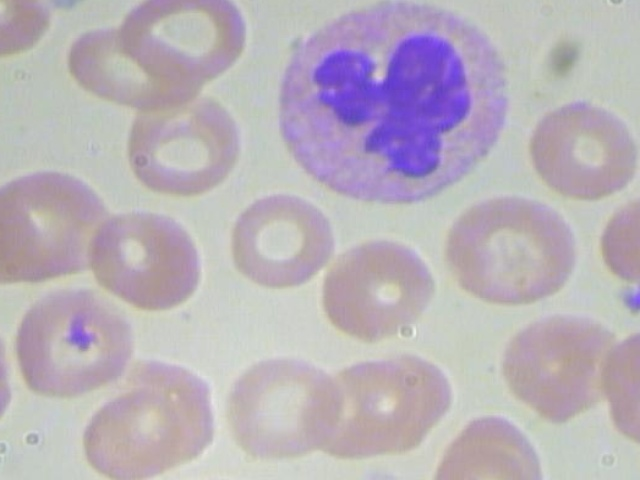Platelets: (609, 276, 640, 318)
RBC: (432, 190, 582, 313), (109, 79, 259, 201), (216, 342, 346, 459), (492, 305, 621, 422), (85, 194, 215, 310), (12, 285, 141, 401), (0, 161, 124, 278), (77, 377, 206, 480), (118, 0, 248, 92), (225, 188, 335, 293), (324, 235, 434, 340), (525, 95, 634, 200), (0, 313, 14, 430)
WBC: (258, 0, 524, 210)
